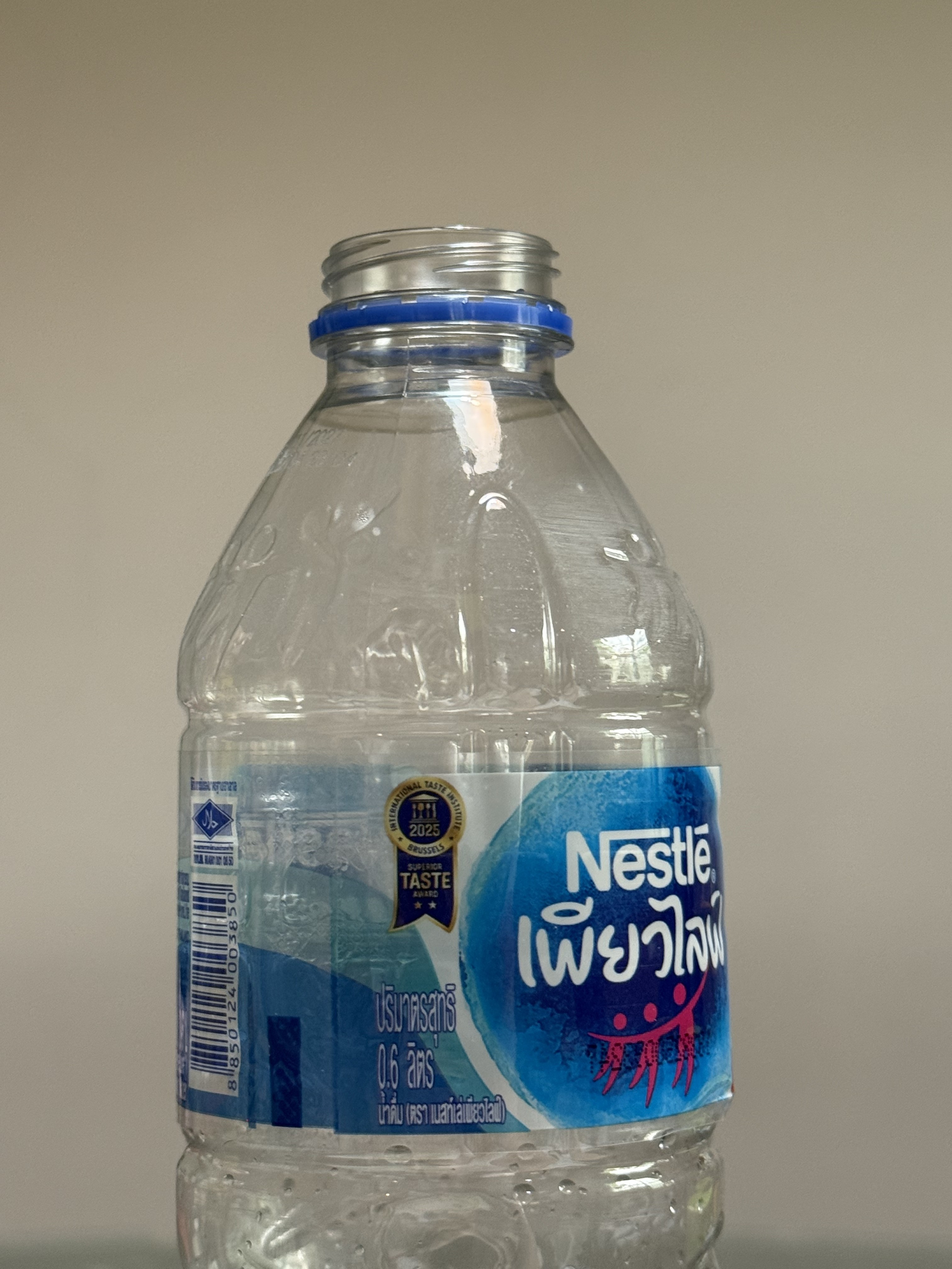no_cap: (306, 223, 573, 350)
